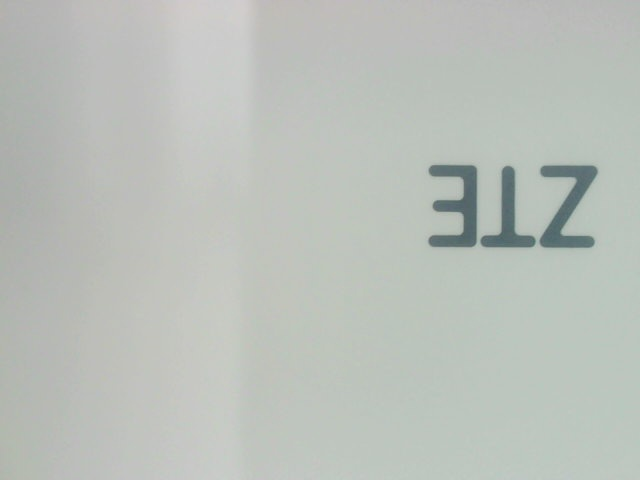AN_ZTELarge: (410, 151, 611, 260)
